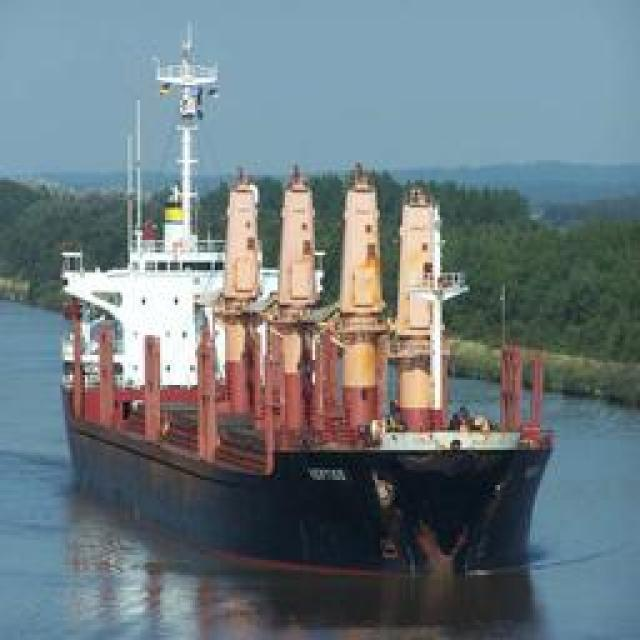ship2: (63, 22, 559, 578)
